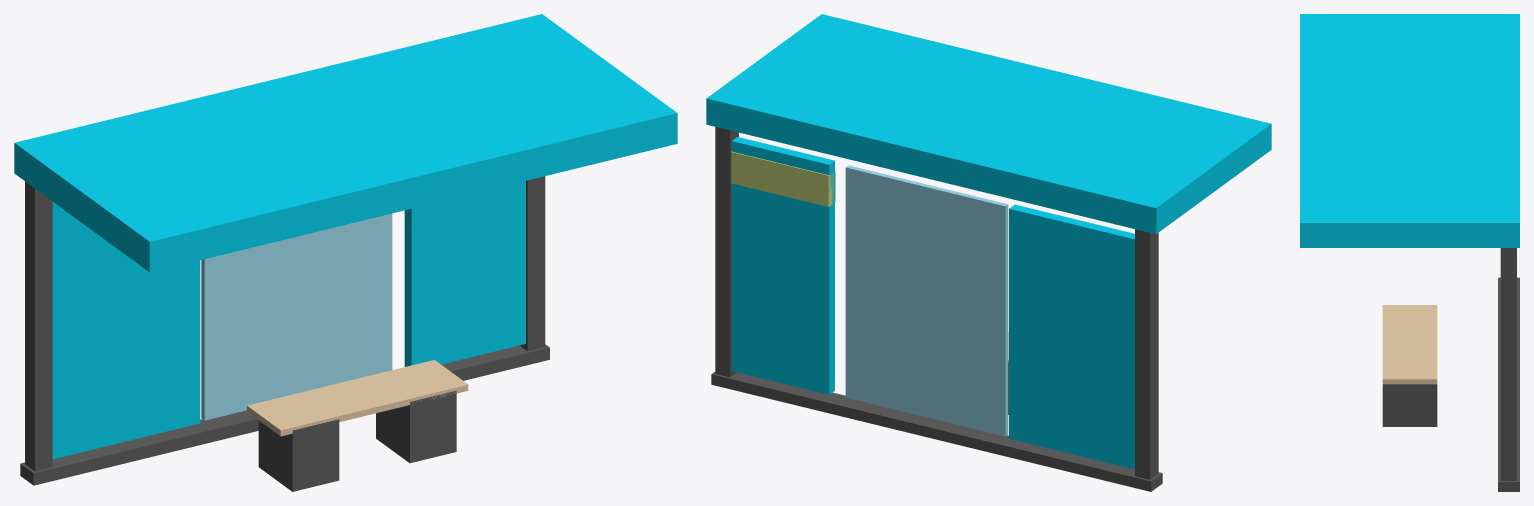
File: parada.glb
The picture shows the model from 3 angles, left to right: view 1: azimuth 30°, elevation 25°; view 2: azimuth 150°, elevation 25°; view 3: azimuth 270°, elevation 25°; orthographic projection. The views are drawn at different scales.
Parts seen in each view (by area): view 1: Techo_Marco, Panel_Perforado, Panel_Publi, Panel_Totem_Fondo, Columna_Trasera_Izq, Banco_Madera, Viga_Base, Banco_Pata_Izq, Banco_Pata_Der, Columna_Trasera_Der; view 2: Techo_Marco, Panel_Perforado, Panel_Publi, Panel_Totem_Fondo, Viga_Base, Columna_Trasera_Izq, Columna_Trasera_Der, Totem_Franja_Verde; view 3: Techo_Marco, Banco_Madera, Columna_Trasera_Der, Banco_Pata_Der, Viga_Base.
Boxes of the visible parts, x1,y1,x2,y2 form: Techo_Marco: (14, 14, 677, 272); Panel_Perforado: (201, 213, 392, 420); Panel_Publi: (52, 202, 200, 459); Panel_Totem_Fondo: (404, 181, 525, 366); Columna_Trasera_Izq: (25, 181, 52, 471); Banco_Madera: (247, 360, 468, 436); Viga_Base: (20, 344, 549, 485); Banco_Pata_Izq: (258, 419, 339, 491); Banco_Pata_Der: (376, 390, 456, 463); Columna_Trasera_Der: (520, 176, 545, 351); Techo_Marco: (706, 14, 1271, 234); Panel_Perforado: (845, 165, 1008, 436); Panel_Publi: (1009, 204, 1134, 469); Panel_Totem_Fondo: (731, 137, 834, 394); Viga_Base: (711, 372, 1162, 491); Columna_Trasera_Izq: (1135, 229, 1158, 479); Columna_Trasera_Der: (715, 127, 738, 377); Totem_Franja_Verde: (731, 151, 835, 206); Techo_Marco: (1300, 14, 1519, 247); Banco_Madera: (1382, 305, 1437, 384); Columna_Trasera_Der: (1500, 248, 1516, 480); Banco_Pata_Der: (1382, 384, 1437, 426); Viga_Base: (1498, 277, 1519, 491).
Size of the model in its own units: 4.5 by 2.72 by 2.
